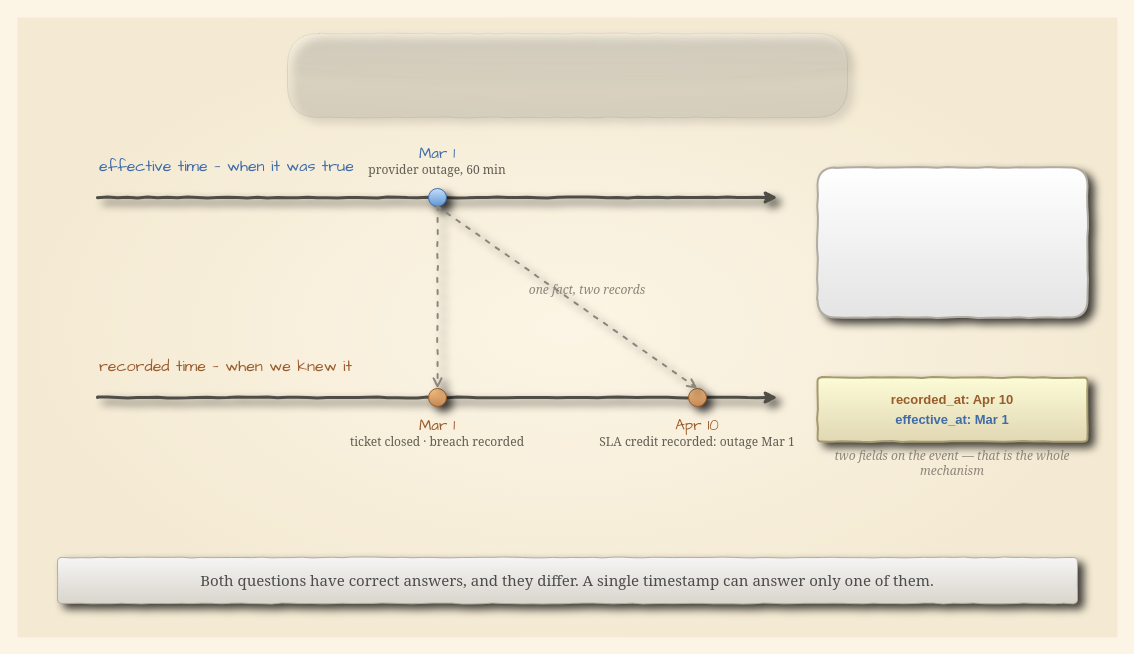
This 1134x654 diagram has some shape labels left out. The shapes that lost their labels are listed below. From the top down, each one's centre as x and y in pixels, then its label:
[570,77]: Two timelines when it happened · when we learned it
[955,244]: “Did it breach in March?” → no “What did the March report say?” → breached
